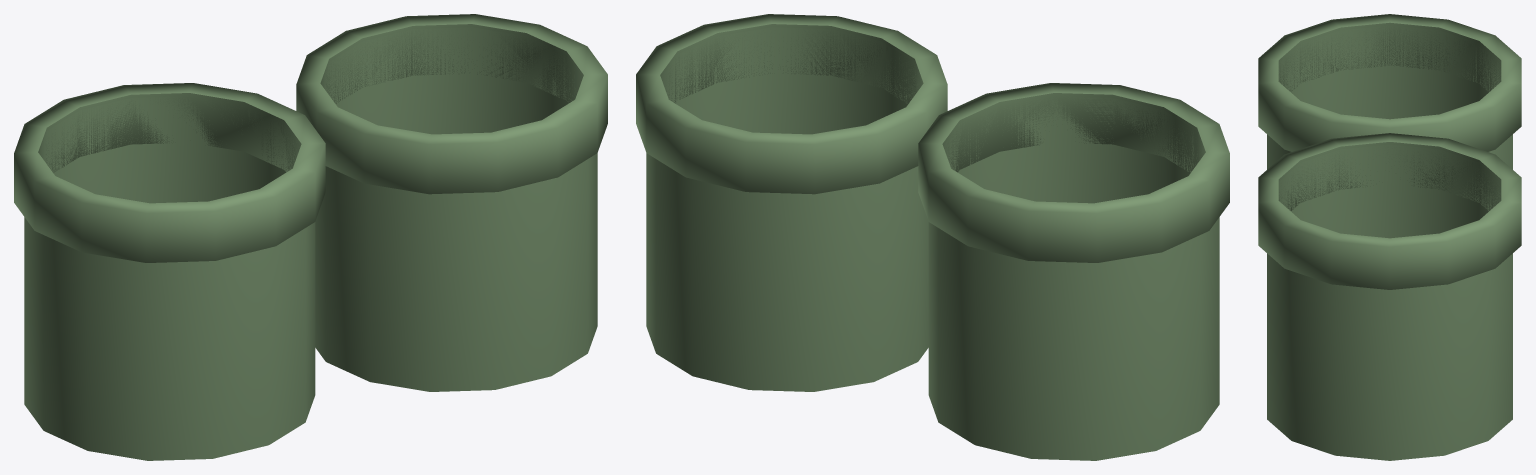
File: leg_warmers.glb
3 views of the same model, side by side, from view 1: azimuth 30°, elevation 25°; view 2: azimuth 150°, elevation 25°; view 3: azimuth 270°, elevation 25° (orthographic). The views are drawn at different scales.
Parts seen in each view (by area): view 1: leg_warmers_LegL, leg_warmers_LegR; view 2: leg_warmers_LegL, leg_warmers_LegR; view 3: leg_warmers_LegR, leg_warmers_LegL.
Part boxes in pixels (box(x1,y1,x2,y2)): leg_warmers_LegL: box(14, 83, 325, 460); leg_warmers_LegR: box(296, 14, 607, 391); leg_warmers_LegL: box(918, 83, 1229, 460); leg_warmers_LegR: box(636, 14, 947, 391); leg_warmers_LegR: box(1258, 133, 1521, 460); leg_warmers_LegL: box(1258, 14, 1521, 169).
Size of the model in its own units: 0.372 by 0.162 by 0.1774.
